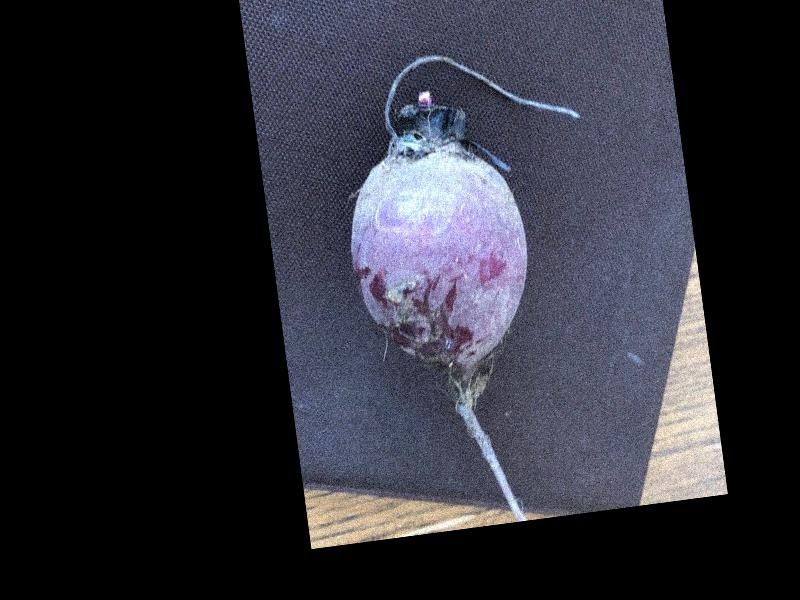Beet: (325, 36, 632, 539)
